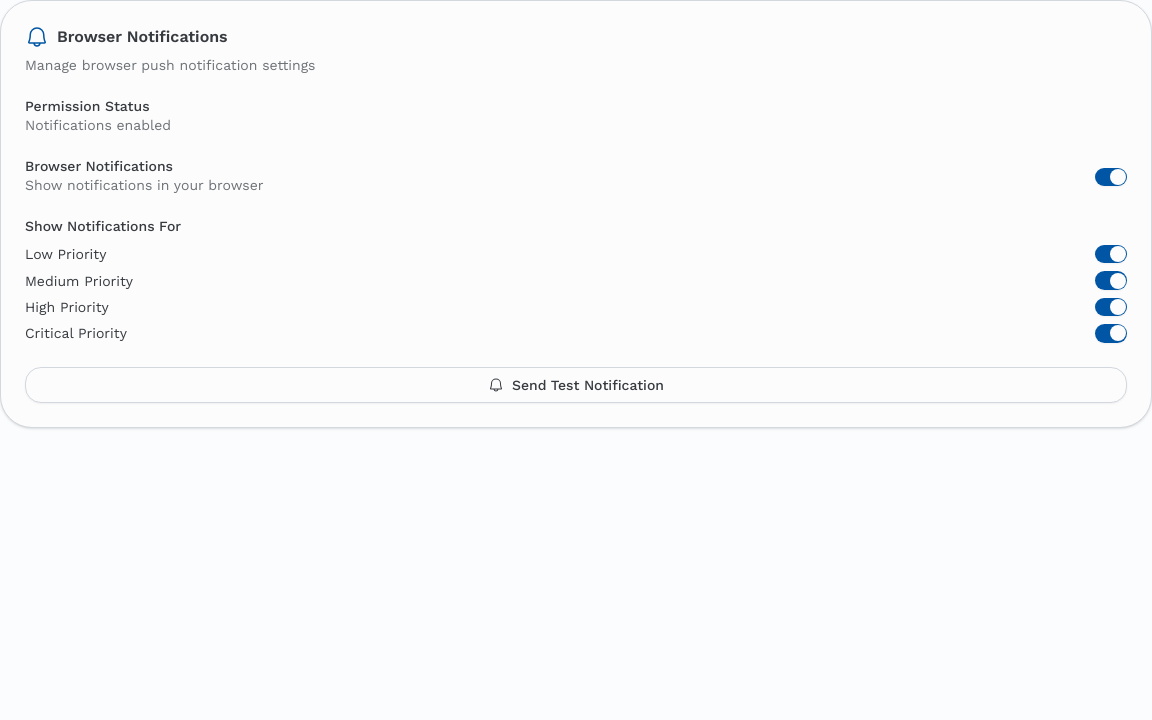
Test: PushNotificationSettings › shows an inline error when updating settings fails
The width and height of the screenshot is (1152, 720).
Click the switch named "browser notifications" in the row of "Show notifications in your browser" at x=1111, y=177, box [1095,168,1127,186]
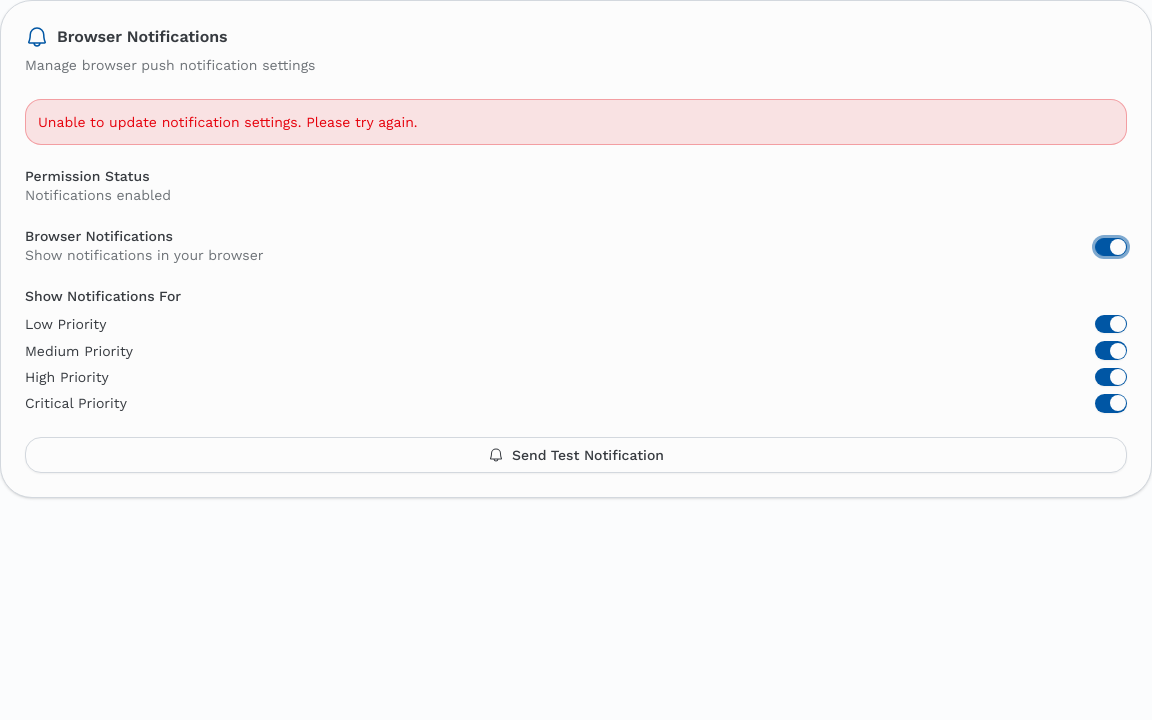
Result: the message shows "Unable to update notification settings" at [38,114,418,130]
